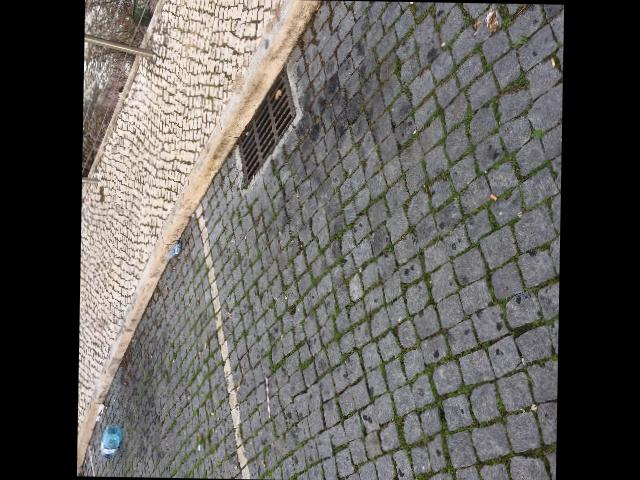plastic: (99, 425, 121, 459), (166, 242, 180, 259)
